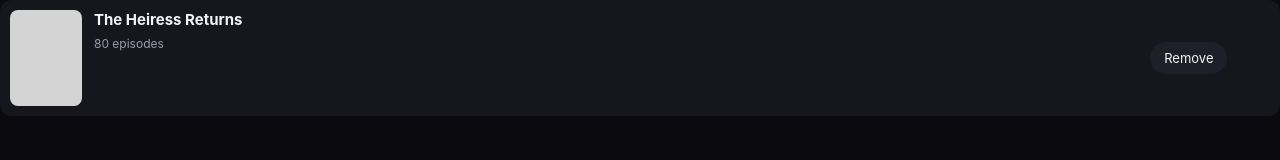
it: un-following from the row › follows again with a PUT when the undo is pressed
Click the button with test id "favorite-remove": (1189, 58) [1150,42,1227,74]
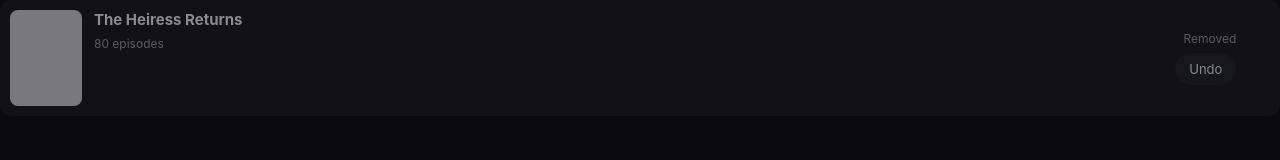
Click the button with test id "favorite-undo": (1206, 69) [1175,53,1236,85]
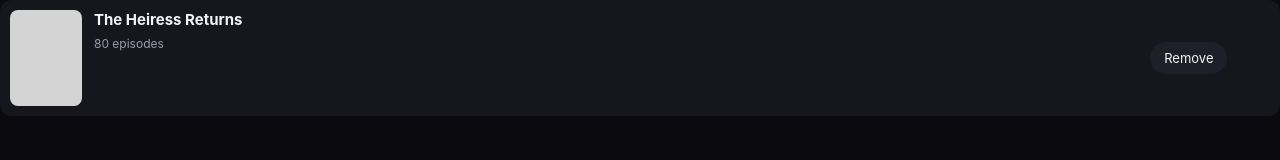
Expected: the button with test id "favorite-remove" is shown, [1150,42,1227,74]
Now the list item with test id "favorite-row" has attribute data-row-state="FOLLOWED"
